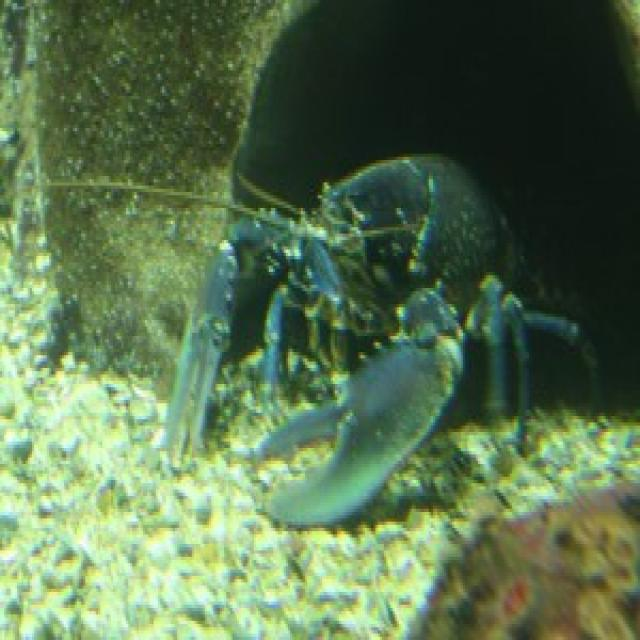lobsters: (126, 130, 640, 547)
